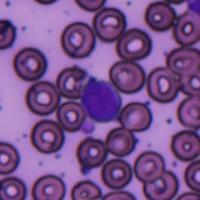L: (80, 78, 122, 122)
